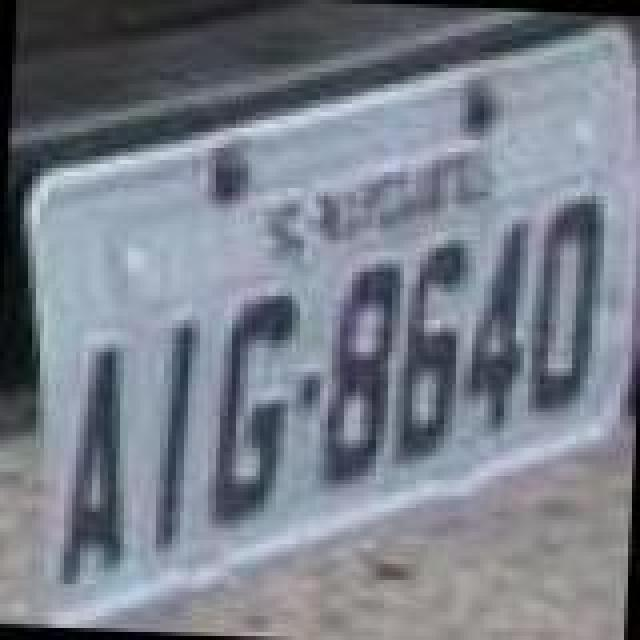1: (150, 316, 202, 556)
4: (458, 220, 534, 436)
6: (390, 236, 474, 468)
8: (314, 260, 406, 492)
A: (54, 344, 138, 592)
G: (208, 288, 304, 528)
O: (520, 192, 608, 416)
